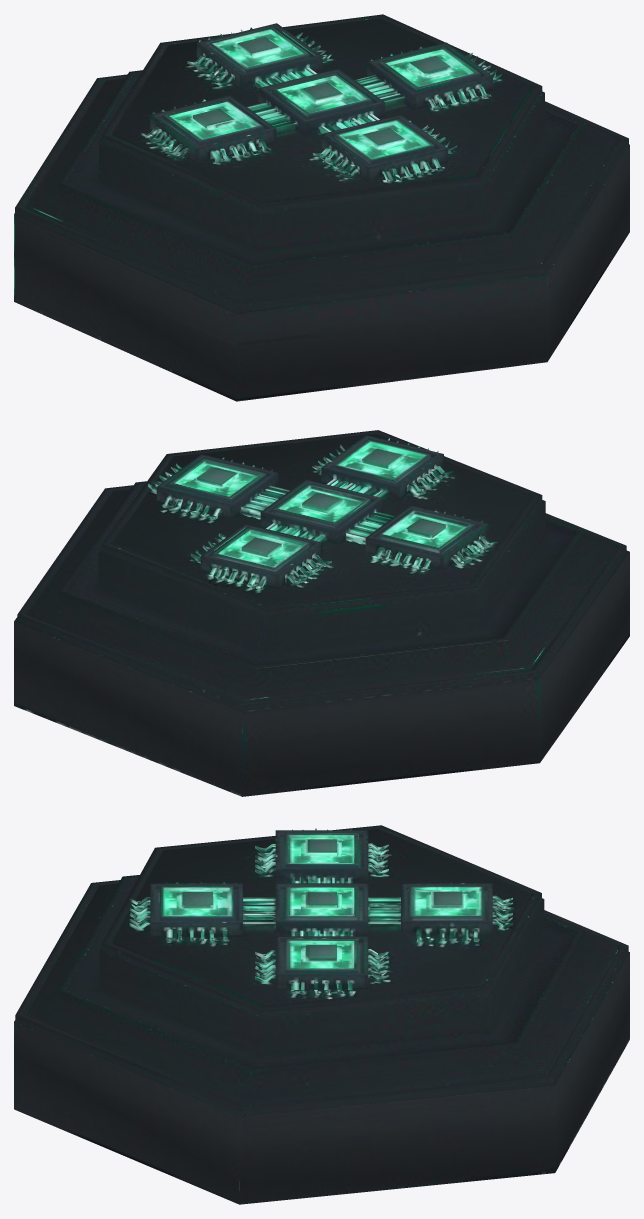
The model's file is montagne_v1.glb.
3 views of the same model, one above another, from view 1: azimuth 30°, elevation 25°; view 2: azimuth 150°, elevation 25°; view 3: azimuth 270°, elevation 25° (orthographic). The views are drawn at different scales.
Visible parts, largest first — view 1: tripo_node_897a851c-faae-4161-8c61-4c8fd60878fb; view 2: tripo_node_897a851c-faae-4161-8c61-4c8fd60878fb; view 3: tripo_node_897a851c-faae-4161-8c61-4c8fd60878fb.
Boxes of the visible parts, left/top/right/bottom form: tripo_node_897a851c-faae-4161-8c61-4c8fd60878fb: left=14, top=14, right=629, bottom=401; tripo_node_897a851c-faae-4161-8c61-4c8fd60878fb: left=14, top=430, right=629, bottom=796; tripo_node_897a851c-faae-4161-8c61-4c8fd60878fb: left=14, top=825, right=629, bottom=1204.
Bounding box in the file's own units: 0.998 × 0.3145 × 0.998.
Materials: 1 (1 with a texture image).
